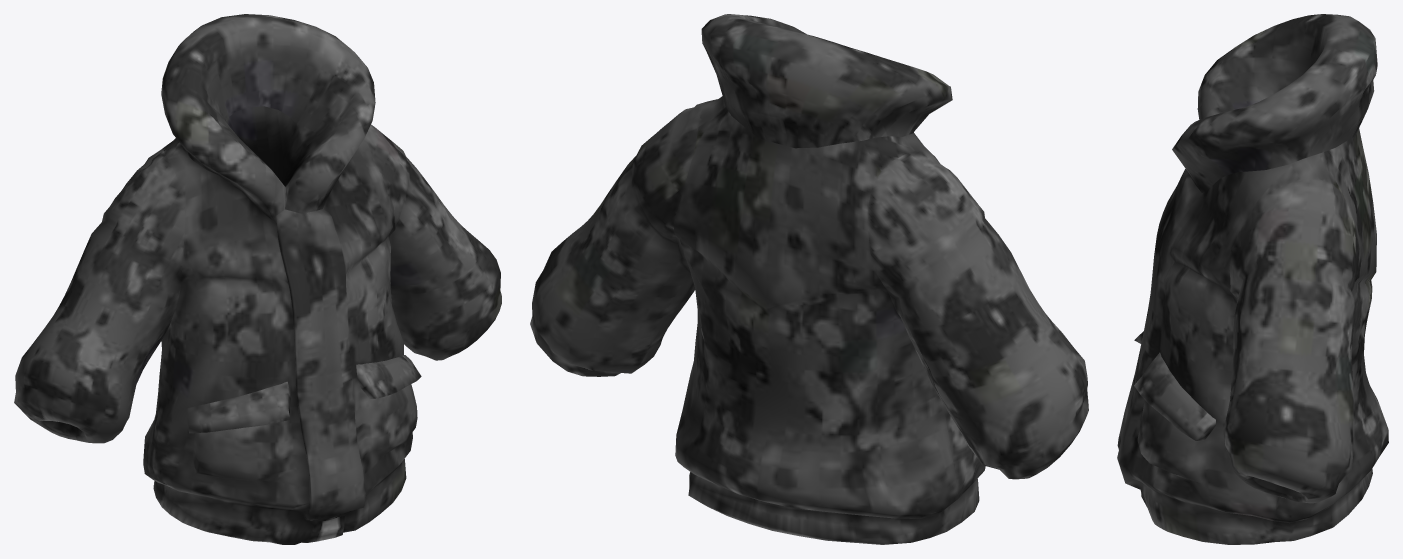
The model's file is body3.glb.
The picture shows the model from 3 angles, left to right: view 1: azimuth 30°, elevation 25°; view 2: azimuth 150°, elevation 25°; view 3: azimuth 270°, elevation 25°; orthographic projection. The views are drawn at different scales.
Visible parts, largest first — view 1: Wolf3D_Outfit_Top; view 2: Wolf3D_Outfit_Top; view 3: Wolf3D_Outfit_Top.
Part boxes in pixels (x1,y1,x2,y2): Wolf3D_Outfit_Top: (14,14,501,544); Wolf3D_Outfit_Top: (530,14,1088,544); Wolf3D_Outfit_Top: (1117,14,1388,544).
Size of the model in its own units: 0.867 by 0.8012 by 0.4102.
Materials: 1 (1 with a texture image).
